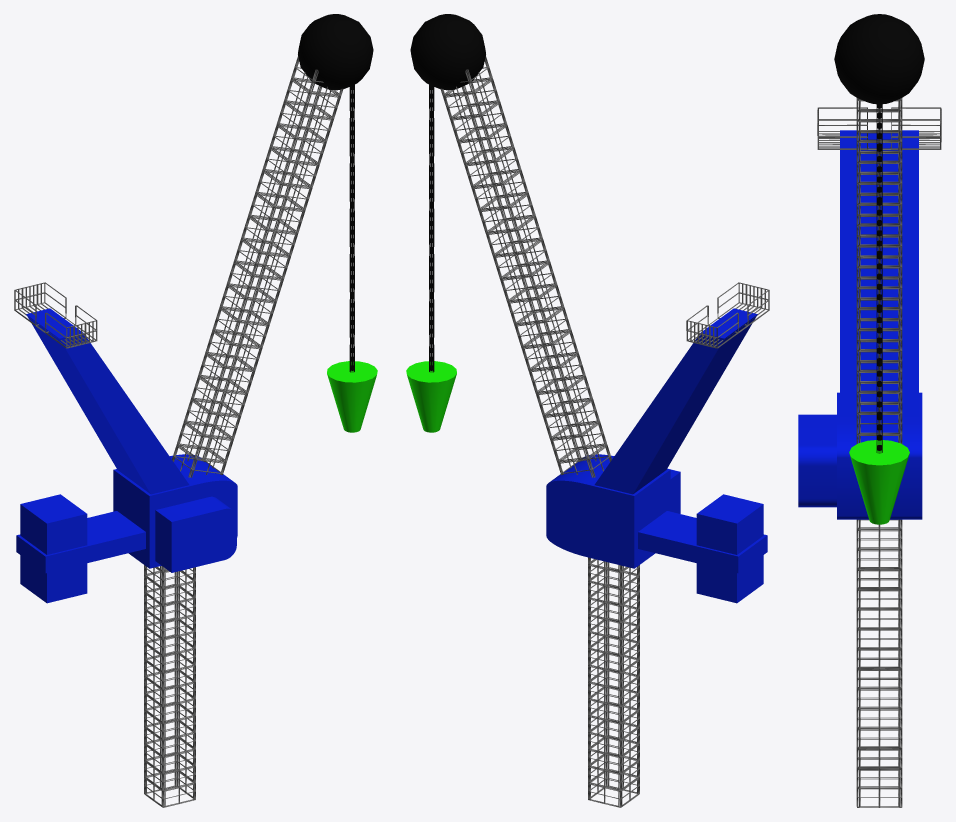
File: Crane_Spinning.fbx
3 views of the same model, side by side, from view 1: azimuth 30°, elevation 25°; view 2: azimuth 150°, elevation 25°; view 3: azimuth 270°, elevation 25° (orthographic). The views are drawn at different scales.
Visible parts, largest first — view 1: Crane_Base, Crane_Tower_Front_Mesh, Crane_Tower, Tower_Hinge, Crane_Hook, Crane_Small_Boardwalk, Crane_Rope; view 2: Crane_Base, Crane_Tower_Front_Mesh, Crane_Tower, Tower_Hinge, Crane_Hook, Crane_Small_Boardwalk, Crane_Rope; view 3: Crane_Base, Crane_Tower_Front_Mesh, Crane_Tower, Tower_Hinge, Crane_Hook, Crane_Rope, Crane_Small_Boardwalk.
Part boxes in pixels (left/top/right/bottom): Crane_Base: left=16, top=308, right=237, bottom=603; Crane_Tower_Front_Mesh: left=172, top=56, right=343, bottom=477; Crane_Tower: left=144, top=565, right=195, bottom=807; Tower_Hinge: left=298, top=14, right=373, bottom=90; Crane_Hook: left=327, top=361, right=377, bottom=432; Crane_Small_Boardwalk: left=14, top=282, right=97, bottom=348; Crane_Rope: left=349, top=84, right=354, bottom=372; Crane_Base: left=546, top=308, right=767, bottom=603; Crane_Tower_Front_Mesh: left=440, top=56, right=611, bottom=477; Crane_Tower: left=588, top=557, right=639, bottom=807; Tower_Hinge: left=410, top=14, right=485, bottom=90; Crane_Hook: left=406, top=361, right=456, bottom=432; Crane_Small_Boardwalk: left=686, top=282, right=769, bottom=348; Crane_Rope: left=429, top=84, right=434, bottom=372; Crane_Base: left=798, top=130, right=922, bottom=519; Crane_Tower_Front_Mesh: left=856, top=98, right=902, bottom=443; Crane_Tower: left=856, top=519, right=902, bottom=807; Tower_Hinge: left=834, top=14, right=924, bottom=104; Crane_Hook: left=849, top=440, right=909, bottom=524; Crane_Rope: left=876, top=103, right=882, bottom=453; Crane_Small_Boardwalk: left=817, top=107, right=941, bottom=149.
Bounding box in the file's own units: 6416 × 13188 × 1955.
